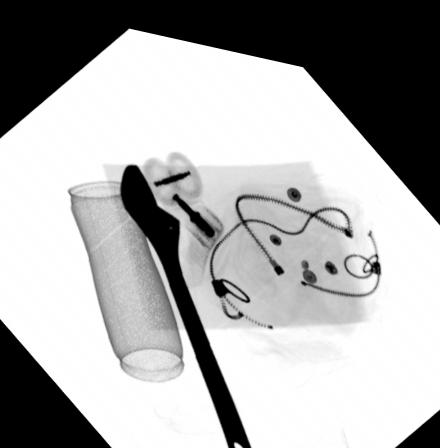Wrench: (117, 156, 255, 448)
